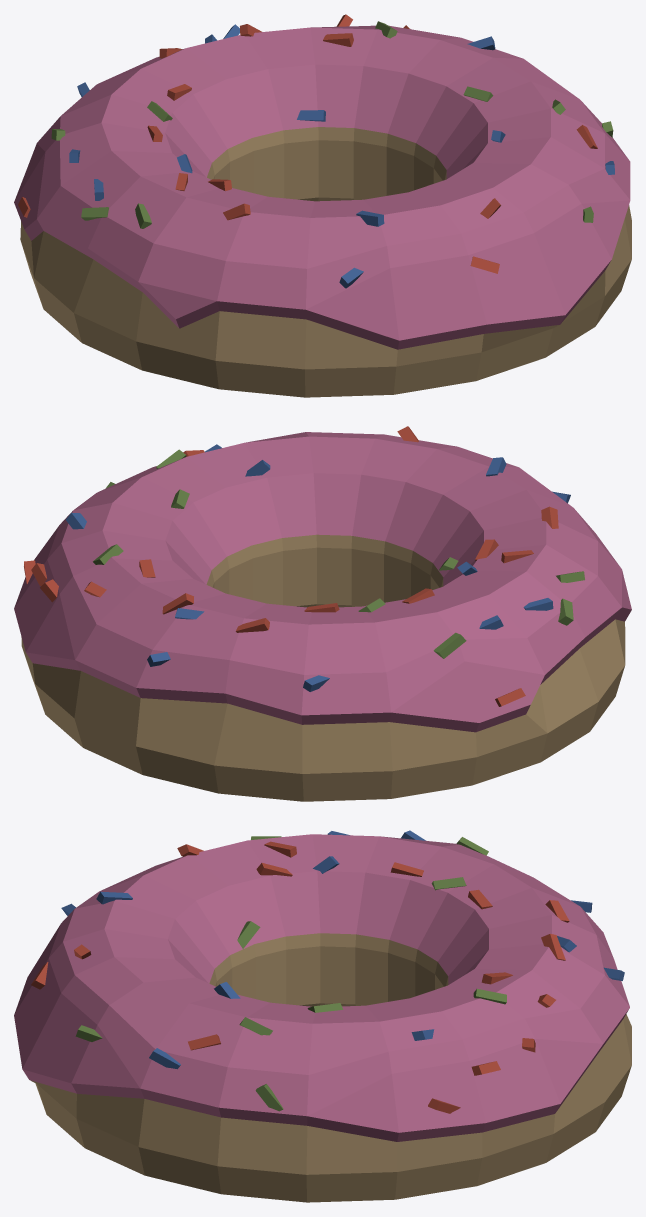
The model's file is Donut1.glb.
3 views of the same model, one above another, from view 1: azimuth 30°, elevation 25°; view 2: azimuth 150°, elevation 25°; view 3: azimuth 270°, elevation 25° (orthographic).
Parts seen in each view (by area): view 1: Donut1; view 2: Donut1; view 3: Donut1.
Boxes of the visible parts, x1,y1,x2,y2 form: Donut1: (14,14,631,397); Donut1: (14,426,631,801); Donut1: (14,830,631,1202).
Bounding box in the file's own units: 0.0945 × 0.0321 × 0.0957.
